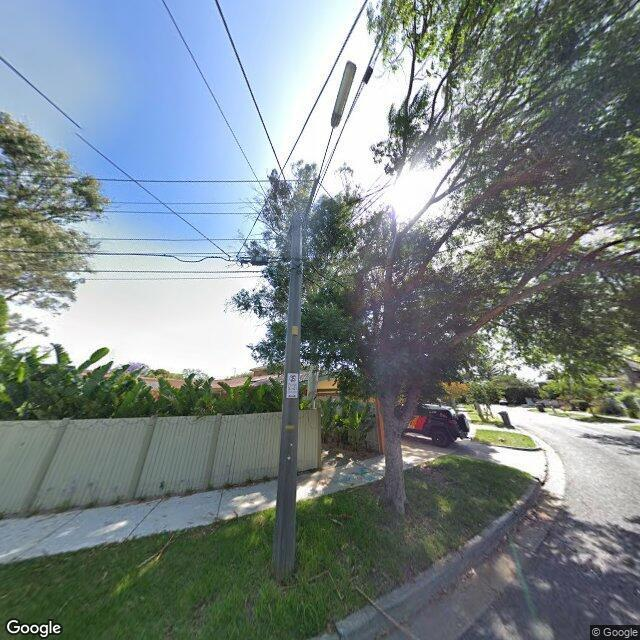streetlight: (300, 61, 358, 229)
timber-pole: (271, 212, 305, 582)
